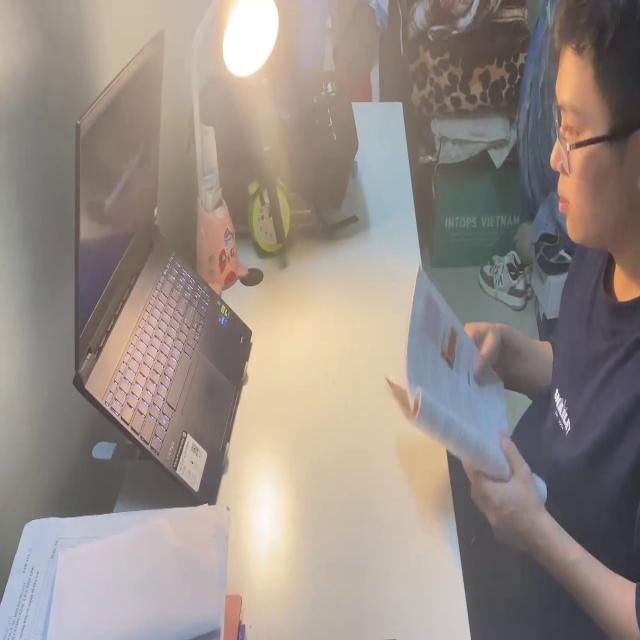book: (386, 257, 549, 514), (3, 506, 245, 640)
student: (439, 0, 640, 640), (70, 25, 254, 506)
